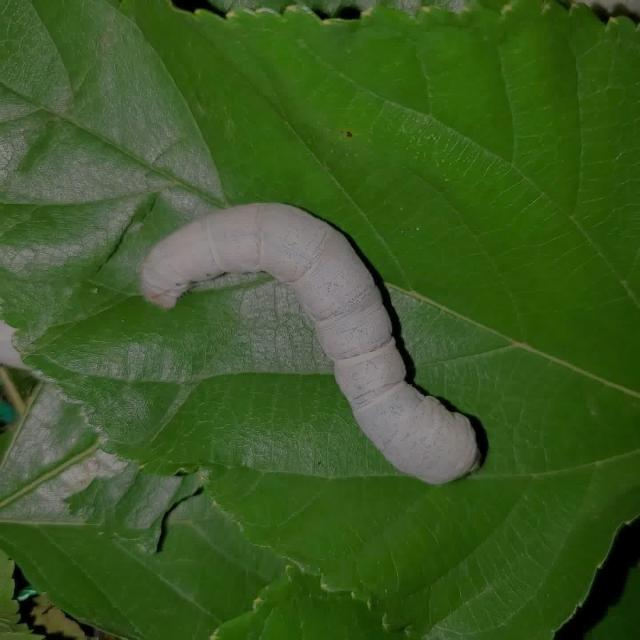Healthy: (122, 177, 506, 509)
